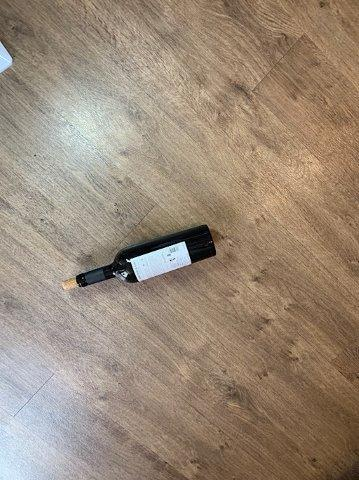botolkaca: (62, 225, 217, 290)
